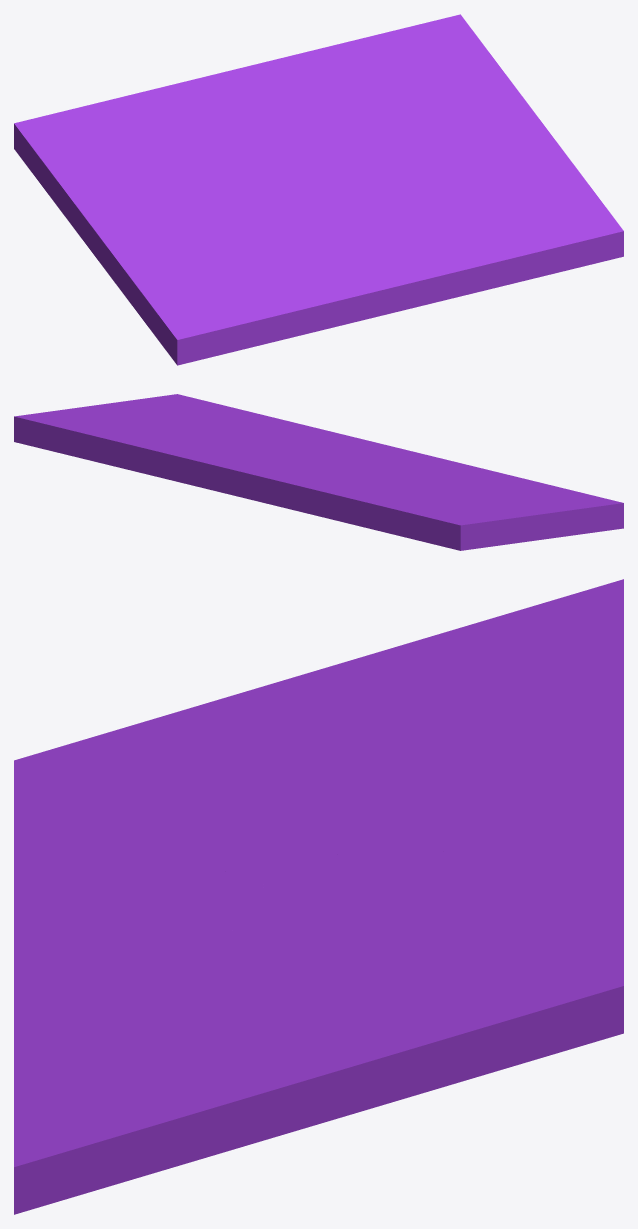
Rendered from Window_163_chunks.fbx.
3 views of the same model, one above another, from view 1: azimuth 30°, elevation 25°; view 2: azimuth 150°, elevation 25°; view 3: azimuth 270°, elevation 25° (orthographic). The views are drawn at different scales.
Parts seen in each view (by area): view 1: Window_163_1, Window_163_0, Window_163_5, Window_163_3, Window_163_4, Window_163_2, Window_163_6; view 2: Window_163_0, Window_163_1, Window_163_3, Window_163_5, Window_163_2, Window_163_6, Window_163_4; view 3: Window_163_1, Window_163_0, Window_163_5, Window_163_3, Window_163_2, Window_163_6, Window_163_4.
Boxes of the visible parts, x1,y1,x2,y2 form: Window_163_1: (279, 14, 623, 272); Window_163_0: (14, 58, 313, 297); Window_163_5: (284, 191, 558, 299); Window_163_3: (126, 232, 305, 365); Window_163_4: (278, 272, 446, 340); Window_163_2: (199, 164, 348, 243); Window_163_6: (232, 198, 329, 246); Window_163_0: (192, 460, 577, 550); Window_163_1: (14, 394, 315, 485); Window_163_3: (432, 469, 623, 535); Window_163_5: (259, 414, 449, 472); Window_163_2: (307, 454, 482, 490); Window_163_6: (340, 459, 448, 482); Window_163_4: (426, 454, 494, 471); Window_163_1: (14, 821, 623, 1214); Window_163_0: (186, 579, 623, 866); Window_163_5: (14, 849, 268, 1093); Window_163_3: (14, 709, 238, 876); Window_163_2: (230, 768, 352, 903); Window_163_6: (173, 798, 263, 886); Window_163_4: (14, 870, 102, 941).
Bounding box in the file's own units: 1838 × 482 × 1165.
